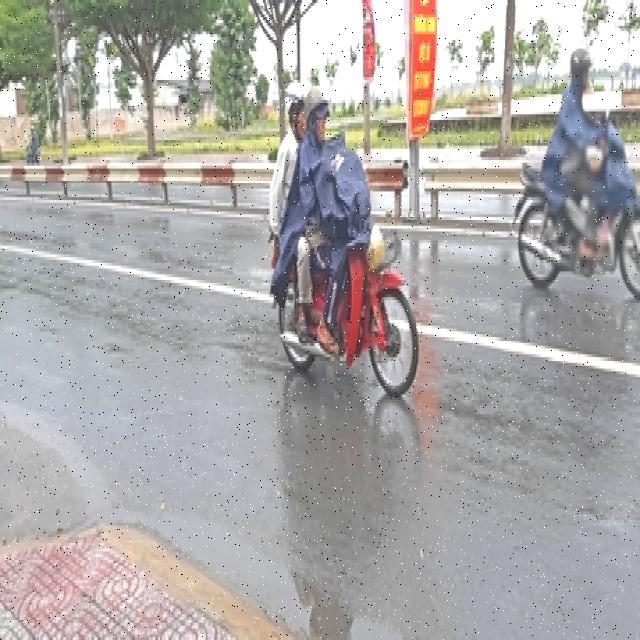motorcycle: (262, 216, 431, 400), (502, 156, 640, 299)
